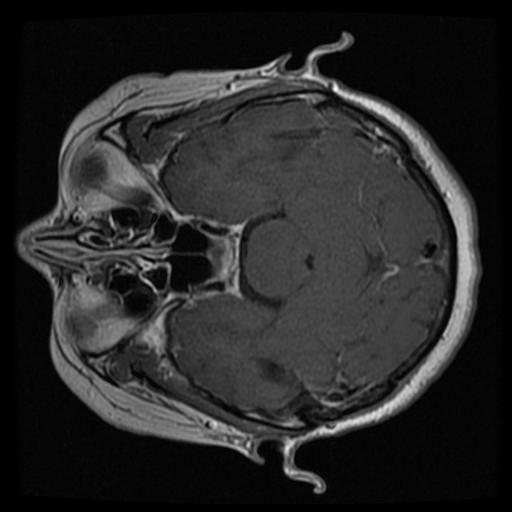pituitary tumour: (205, 233, 238, 282)
